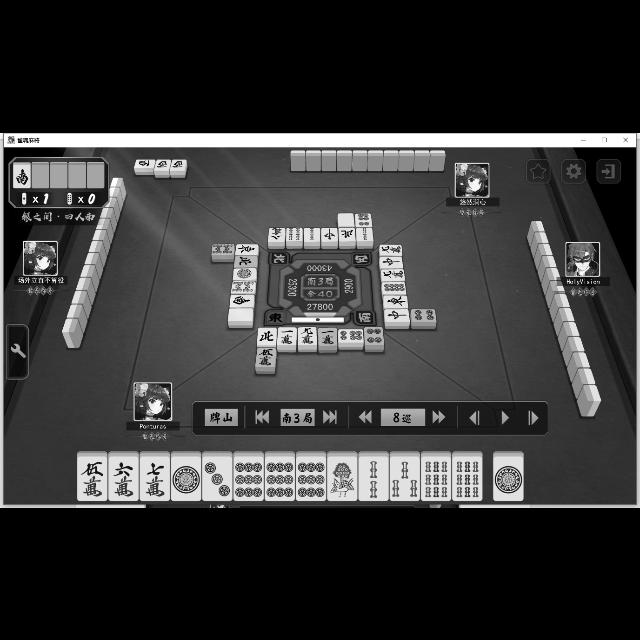1m: (318, 328, 338, 346), (278, 327, 296, 345)
1p: (170, 456, 202, 500), (494, 455, 524, 499), (232, 268, 256, 278)
1s: (328, 456, 357, 499)
2s: (358, 456, 388, 500), (356, 227, 374, 241), (304, 227, 320, 241)
3p: (202, 455, 232, 499)
3s: (390, 456, 420, 500)
4p: (364, 326, 384, 344), (412, 308, 436, 322)
4s: (287, 227, 303, 241)
5m: (77, 456, 107, 500), (255, 347, 275, 367)
6m: (108, 456, 138, 499)
6p: (338, 328, 364, 340), (355, 212, 373, 226)
7m: (140, 456, 170, 502)
8m: (268, 227, 286, 241)
8p: (382, 282, 406, 294)
8s: (231, 280, 255, 292), (212, 242, 234, 254)
9m: (381, 268, 405, 282), (298, 326, 316, 344), (379, 244, 403, 256)
9p: (264, 456, 296, 499), (234, 457, 262, 501), (297, 457, 325, 501)
9s: (421, 456, 451, 500), (453, 456, 483, 500)
chun: (384, 308, 410, 322), (379, 256, 403, 266), (322, 228, 338, 240)
haku: (228, 308, 252, 320), (338, 212, 354, 226)
nan: (14, 163, 30, 187), (230, 294, 254, 306)
pe: (256, 326, 276, 346), (233, 255, 257, 267), (339, 227, 355, 240)
sha: (133, 158, 155, 168), (170, 158, 187, 170), (154, 158, 170, 170)
tou: (383, 294, 407, 306), (236, 243, 258, 254)
